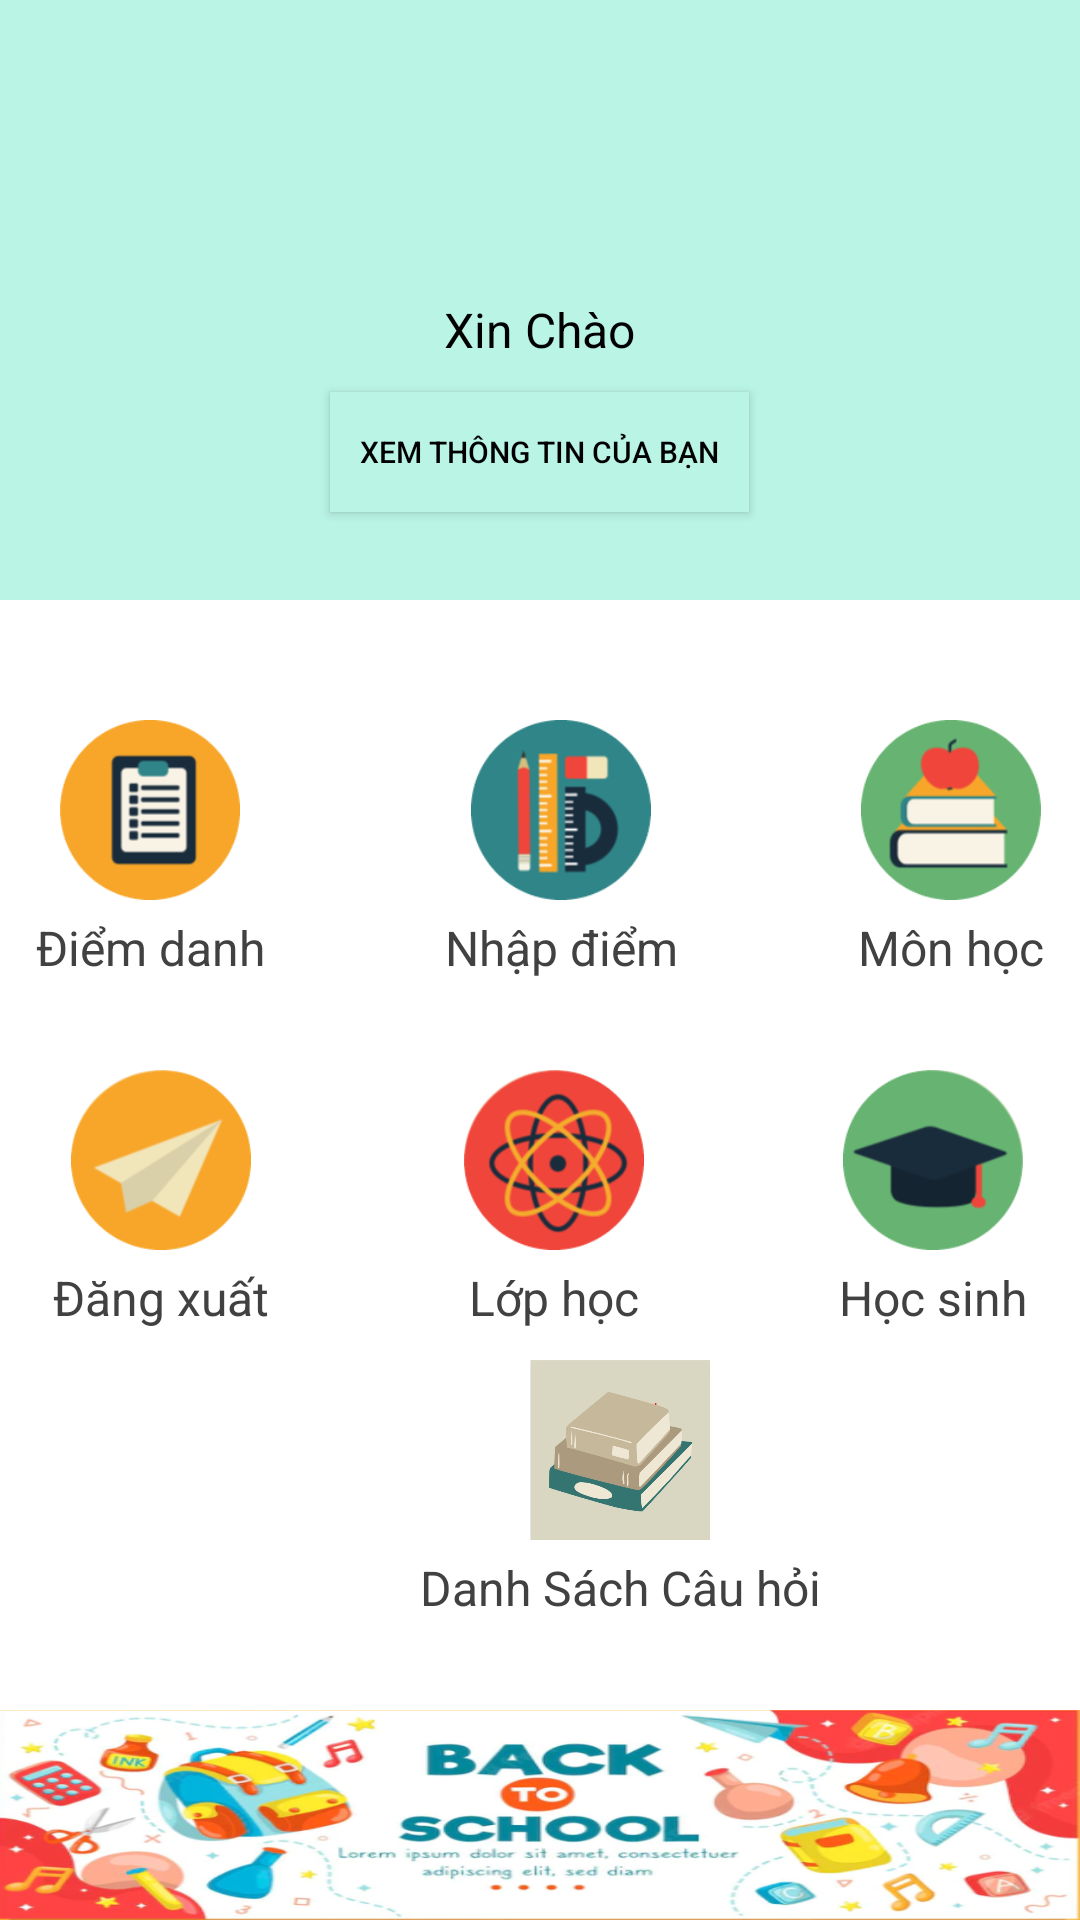

Icons on this 1080x1920 Android screen, each with the point to tap as point (x, y):
sach: point (620, 1450)
